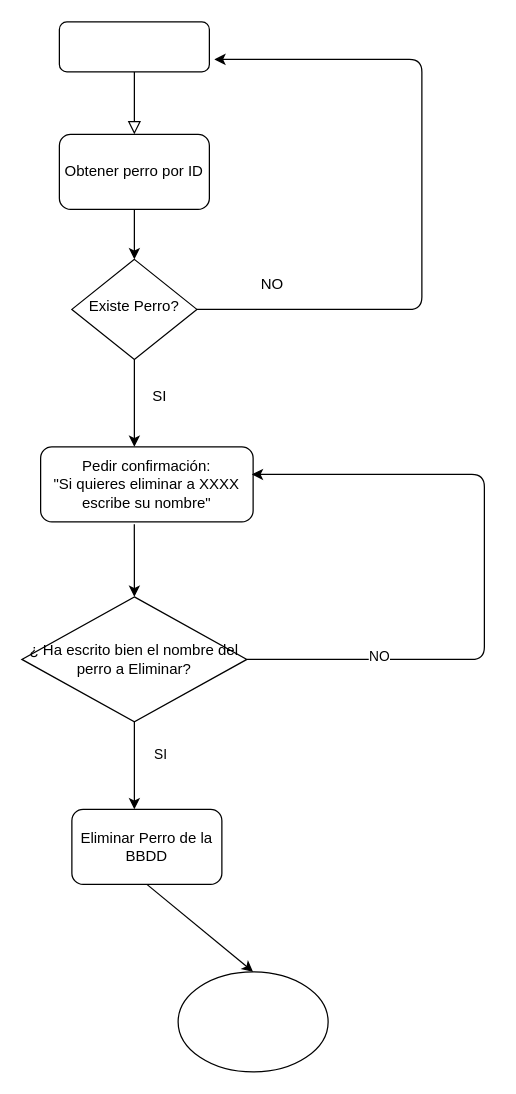
The diagram is 516 pixels wide and 1094 high, and some of its shapes have lost their labels. Each missing label, with the centre of its shape:
FIN: the point at 252,1021
Preguntar el ID para eliminar: the point at 133,46
